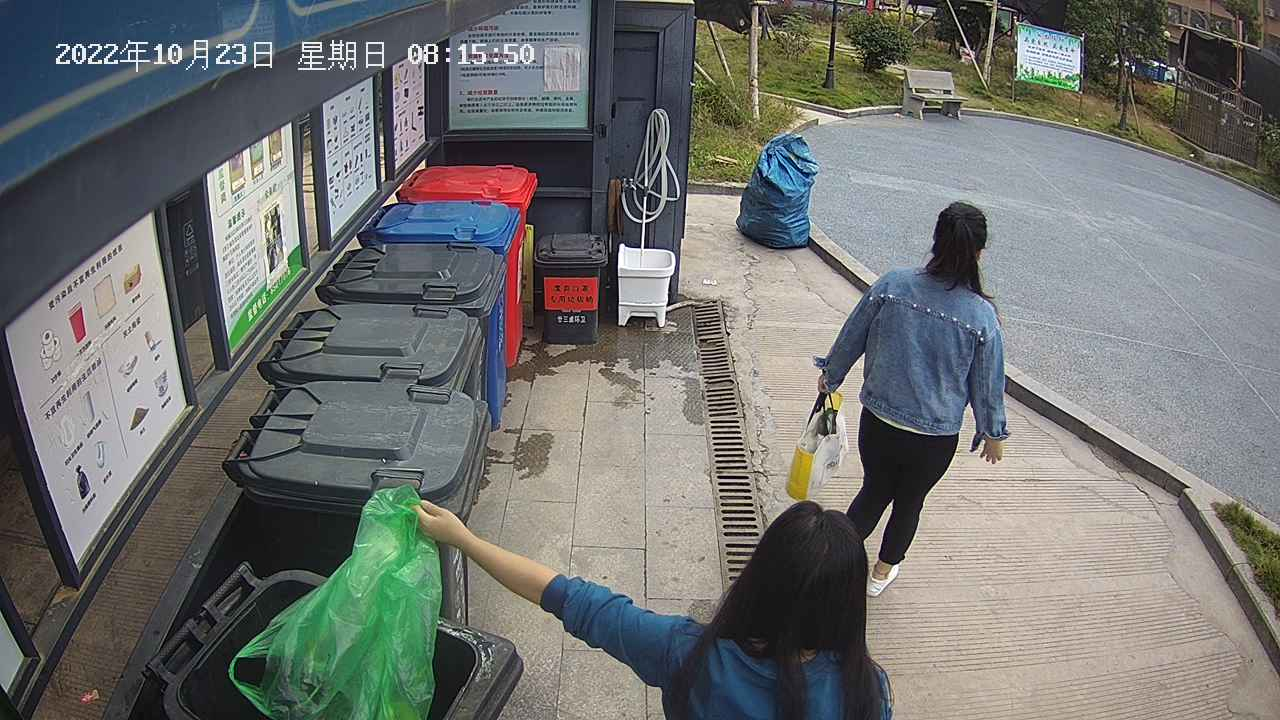garbage-bag: (221, 479, 445, 720), (779, 382, 853, 504)
person: (403, 198, 1016, 720)
